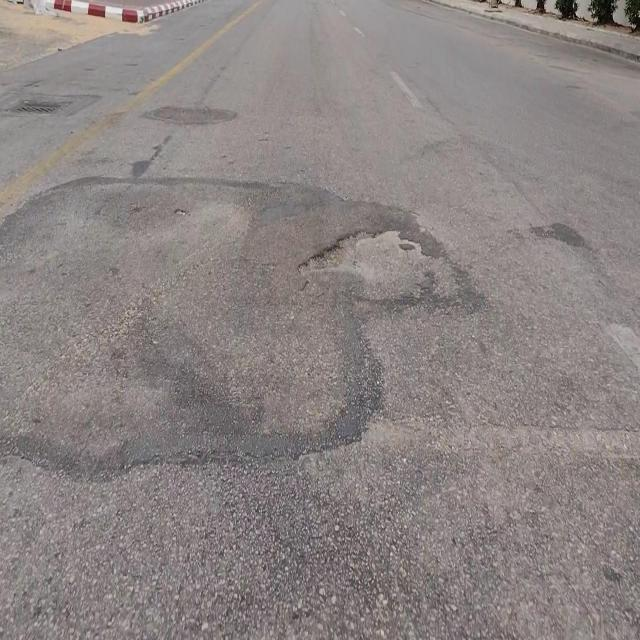Pothole: (304, 226, 433, 285)
